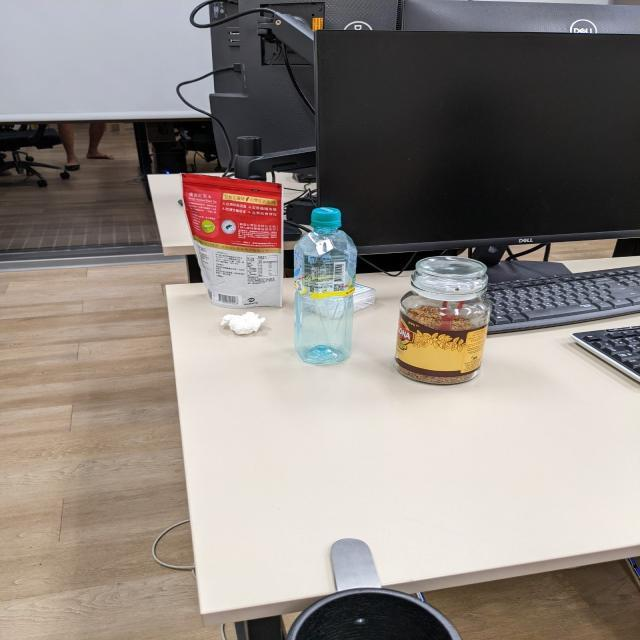good: (292, 204, 362, 371)
